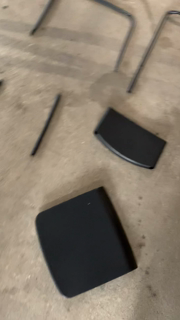Back: (91, 105, 170, 173)
Seat: (35, 183, 141, 303)
i pipe: (29, 91, 67, 161)
